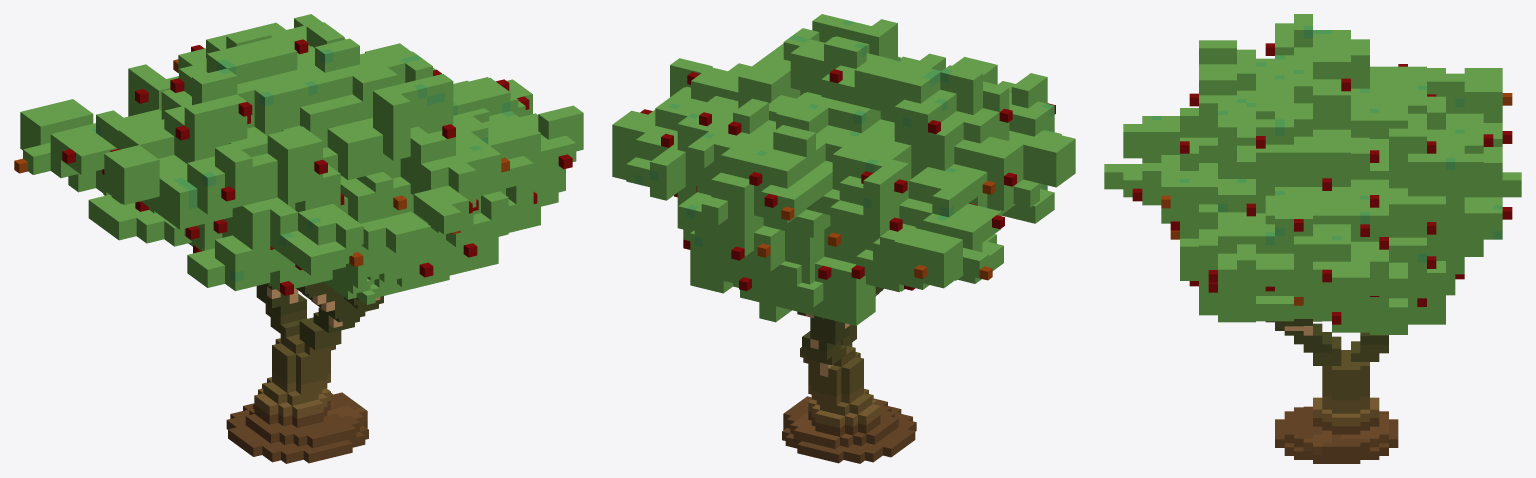
The model's file is 2_1 acer.vox.obj.
3 views of the same model, side by side, from view 1: azimuth 30°, elevation 25°; view 2: azimuth 150°, elevation 25°; view 3: azimuth 270°, elevation 25° (orthographic). The views are drawn at different scales.
Size of the model in its own units: 5.2 by 4.3 by 4.4.
Materials: 1 (1 with a texture image).
